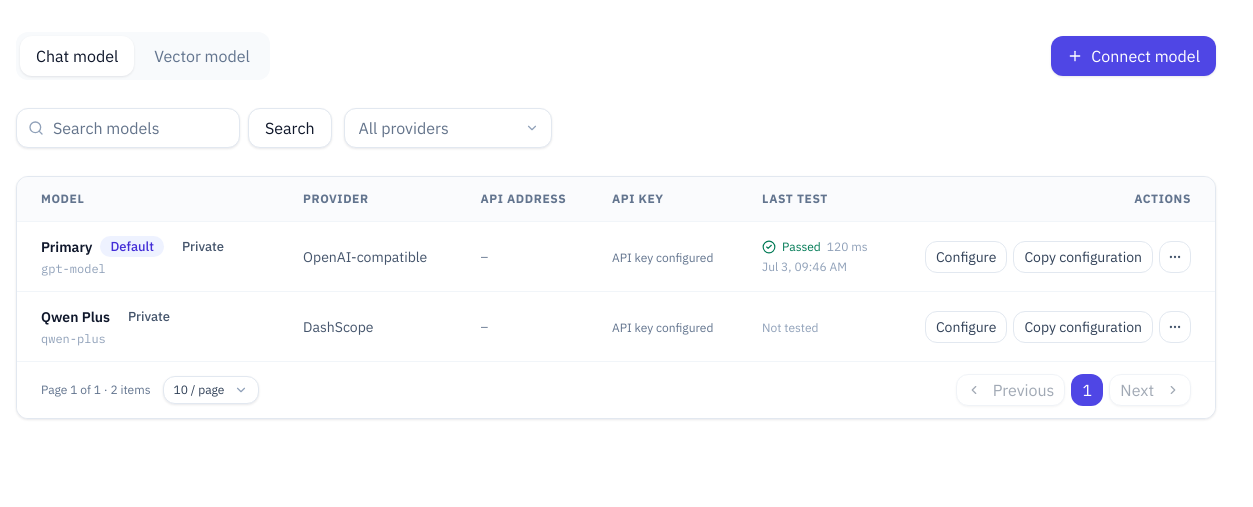
Test case: model settings experience › duplicates a configuration into a new persisted list row instead of the clipboard
Click the button "Copy configuration" in the row of "Qwen Plus". click: coordinates (1083, 326)
box: 1013,310 -> 1153,342
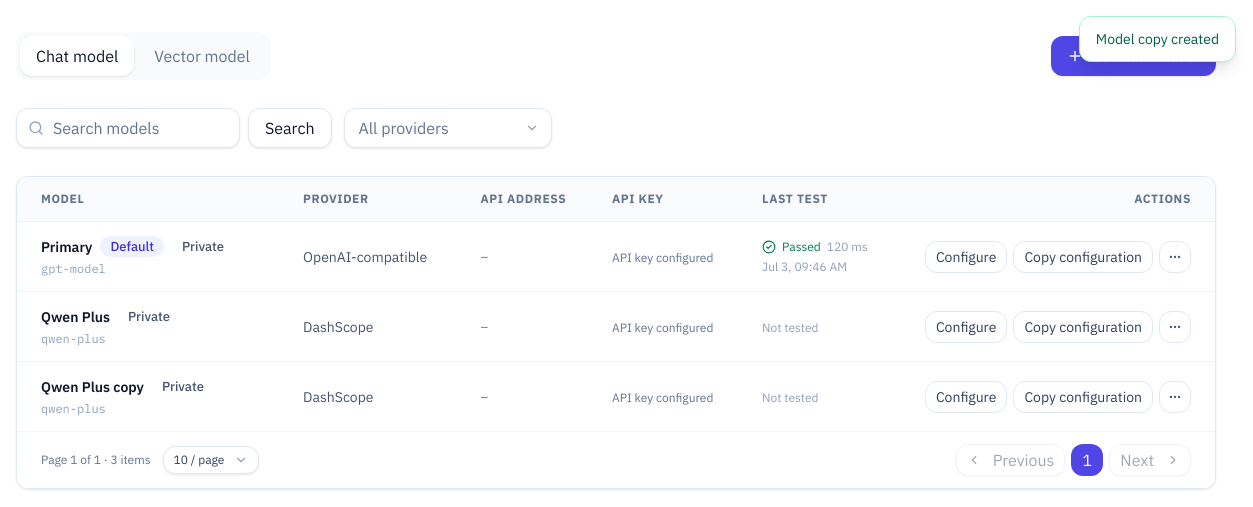
Result: the text "Qwen Plus copy" is shown at 41,376 -> 144,396
